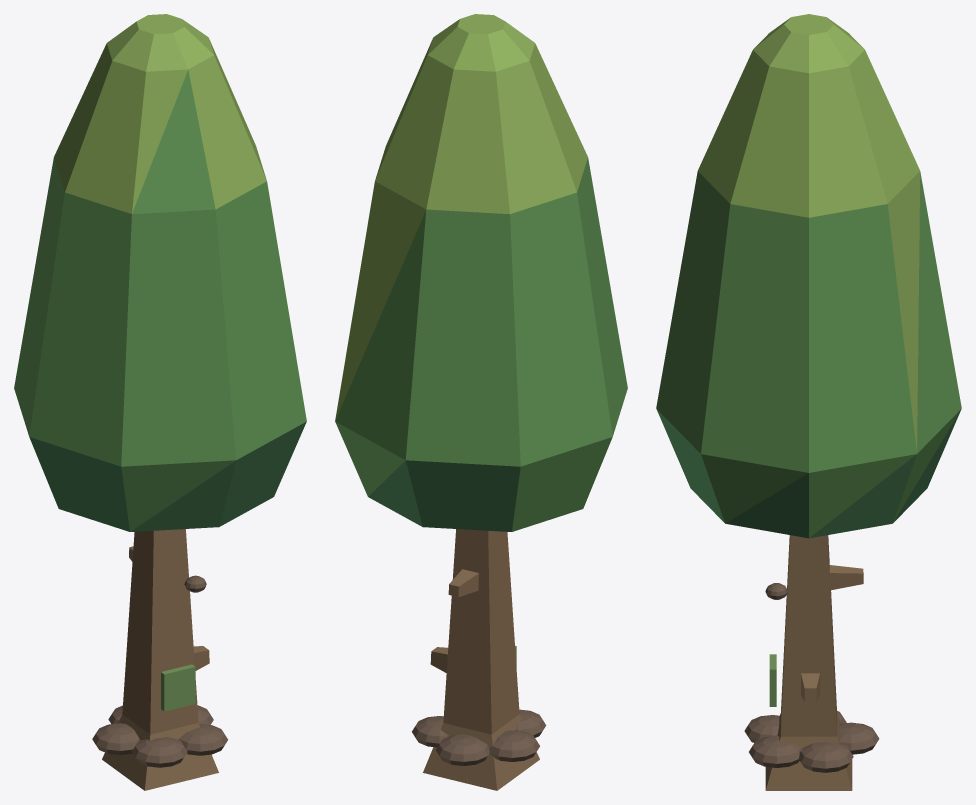
The model's file is tree_cone.glb.
3 renders of one model, left to right at view 1: azimuth 30°, elevation 25°; view 2: azimuth 150°, elevation 25°; view 3: azimuth 270°, elevation 25°, orthographic.
Parts seen in each view (by area): view 1: tree_cone; view 2: tree_cone; view 3: tree_cone.
Boxes of the visible parts, left/top/right/bottom form: tree_cone: left=14, top=14, right=306, bottom=790; tree_cone: left=335, top=14, right=627, bottom=790; tree_cone: left=656, top=14, right=961, bottom=790.
Size of the model in its own units: 0.5297 by 1.43 by 0.5297.
